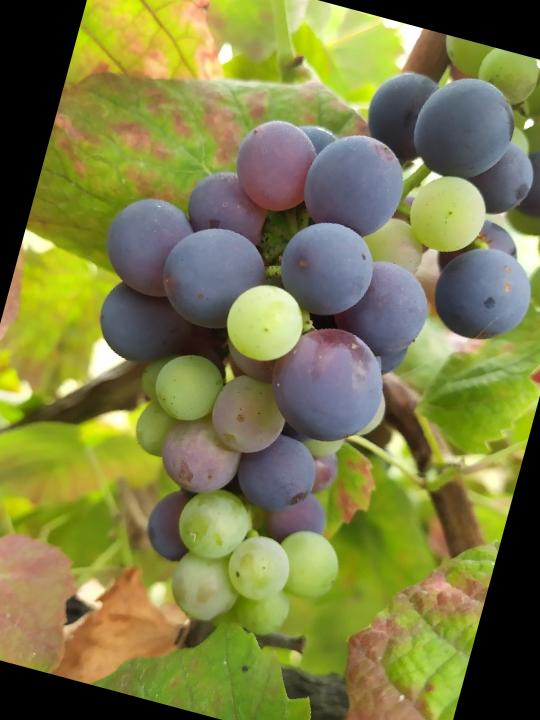grape: (11, 75, 473, 663)
